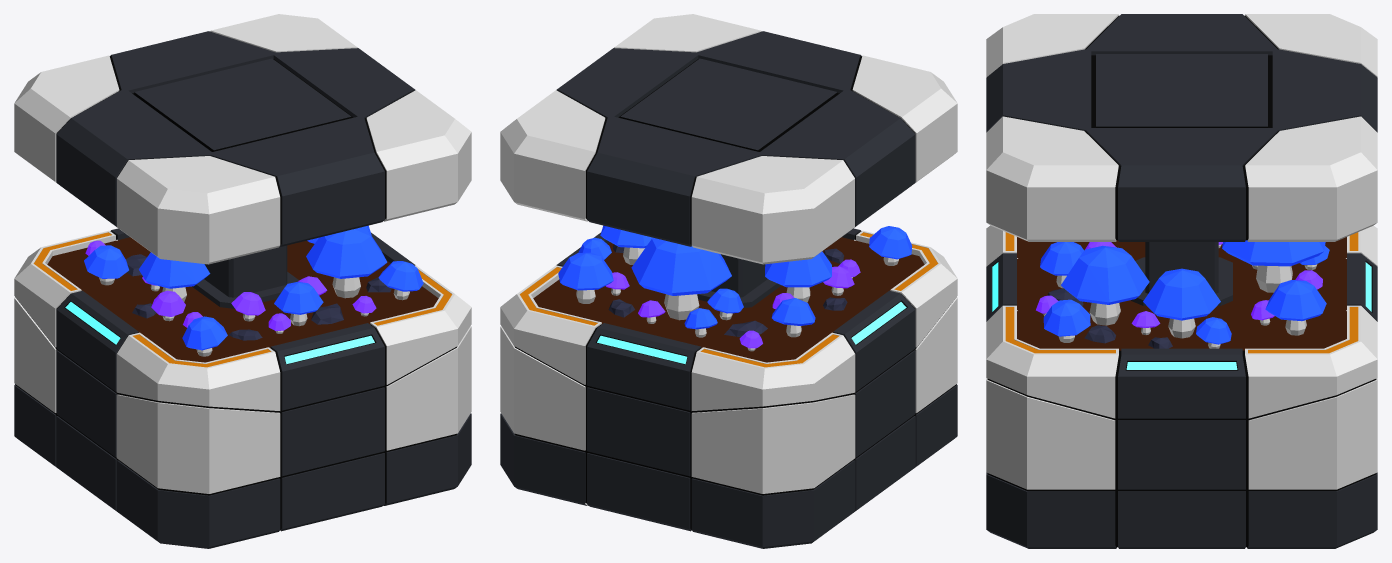
File: SM_Mushroom_GrowStation.fbx
3 renders of one model, left to right at view 1: azimuth 30°, elevation 25°; view 2: azimuth 150°, elevation 25°; view 3: azimuth 270°, elevation 25°, orthographic. The views are drawn at different scales.
Visible parts, largest first — view 1: SM_Mushroom_GrowStation; view 2: SM_Mushroom_GrowStation; view 3: SM_Mushroom_GrowStation.
Boxes of the visible parts, x1,y1,x2,y2 form: SM_Mushroom_GrowStation: (14, 14, 471, 548); SM_Mushroom_GrowStation: (500, 14, 957, 548); SM_Mushroom_GrowStation: (986, 14, 1377, 548).
Bounding box in the file's own units: 150 × 160 × 150.
